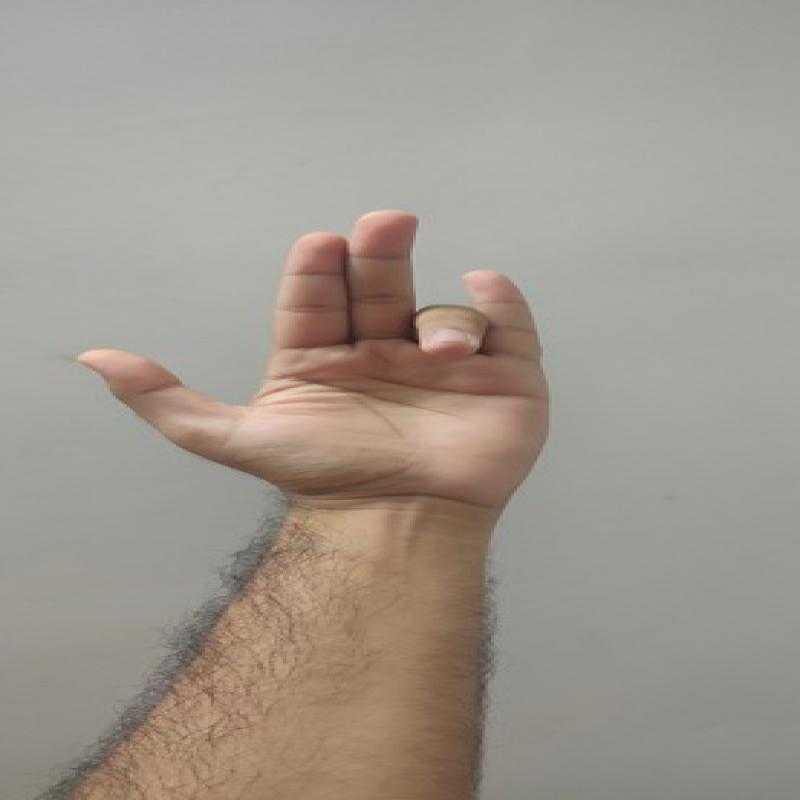Pathaaka: (73, 197, 566, 523)
